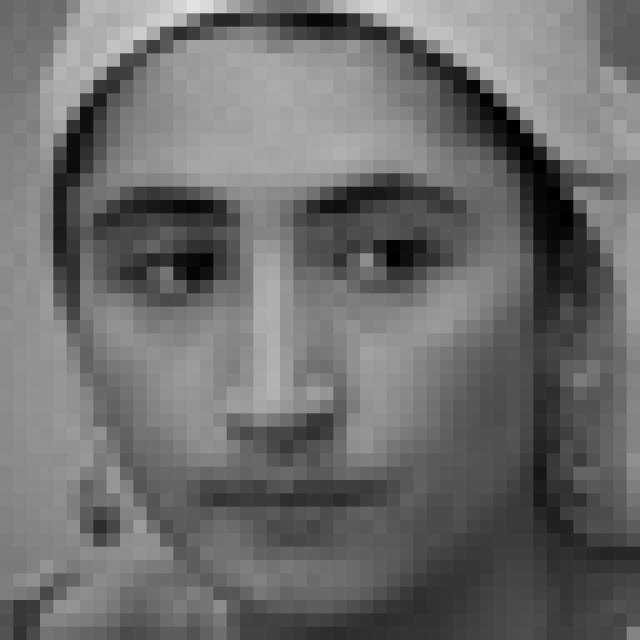neutral: (88, 173, 481, 552)
